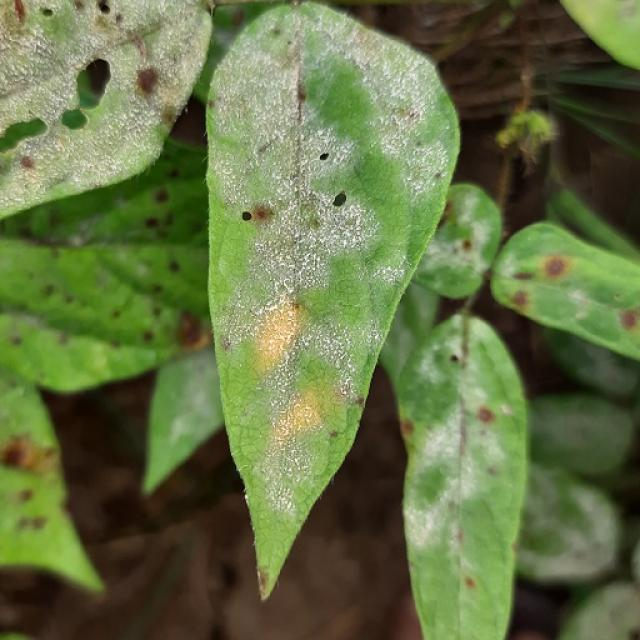Blackgram: (209, 4, 458, 599)
Powdery_Mildew: (238, 282, 365, 503), (220, 43, 350, 185), (410, 392, 506, 538), (257, 198, 371, 310), (345, 41, 444, 162), (41, 101, 153, 185), (120, 5, 211, 103), (0, 137, 96, 221), (0, 23, 72, 109), (304, 296, 371, 376), (281, 10, 375, 57), (312, 200, 377, 264), (322, 194, 380, 259)
